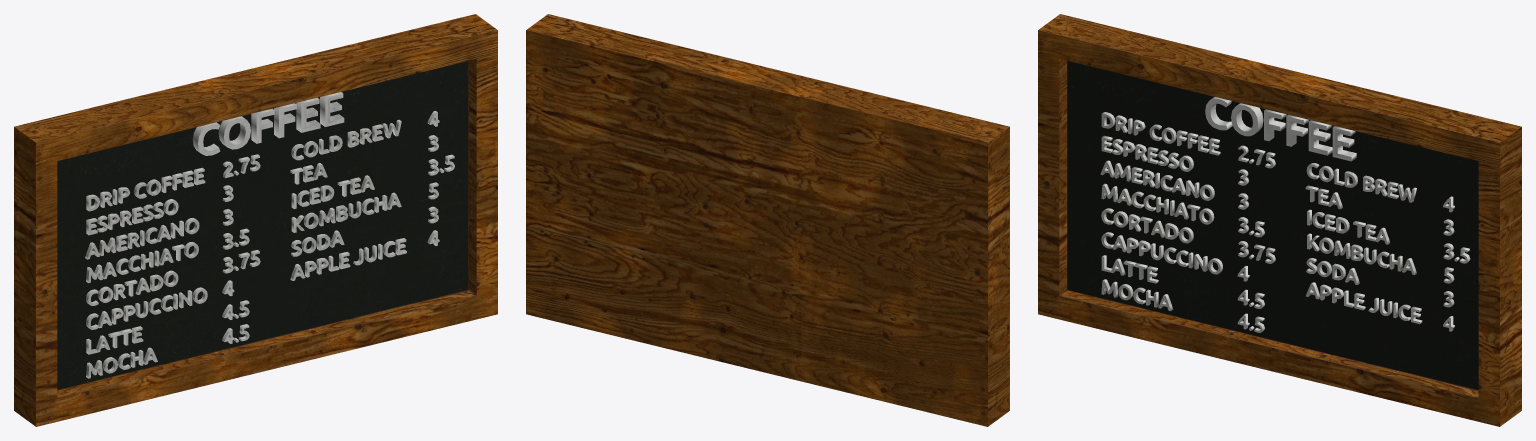
Rendered from Coffee Menu.fbx.
The picture shows the model from 3 angles, left to right: view 1: azimuth 30°, elevation 25°; view 2: azimuth 150°, elevation 25°; view 3: azimuth 330°, elevation 25°; orthographic projection.
Parts seen in each view (by area): view 1: Menu; view 2: Menu; view 3: Menu.
Part boxes in pixels (bbox=[...]): Menu: bbox=[14, 14, 497, 426]; Menu: bbox=[526, 14, 1009, 426]; Menu: bbox=[1038, 14, 1521, 426].
Size of the model in its own units: 170 by 100 by 14.05.
1 material, 1 textured.
